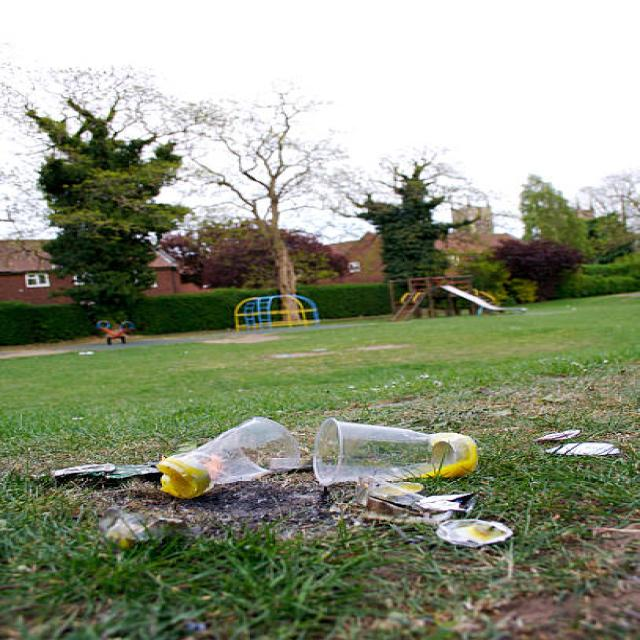plastic: (82, 408, 566, 520)
